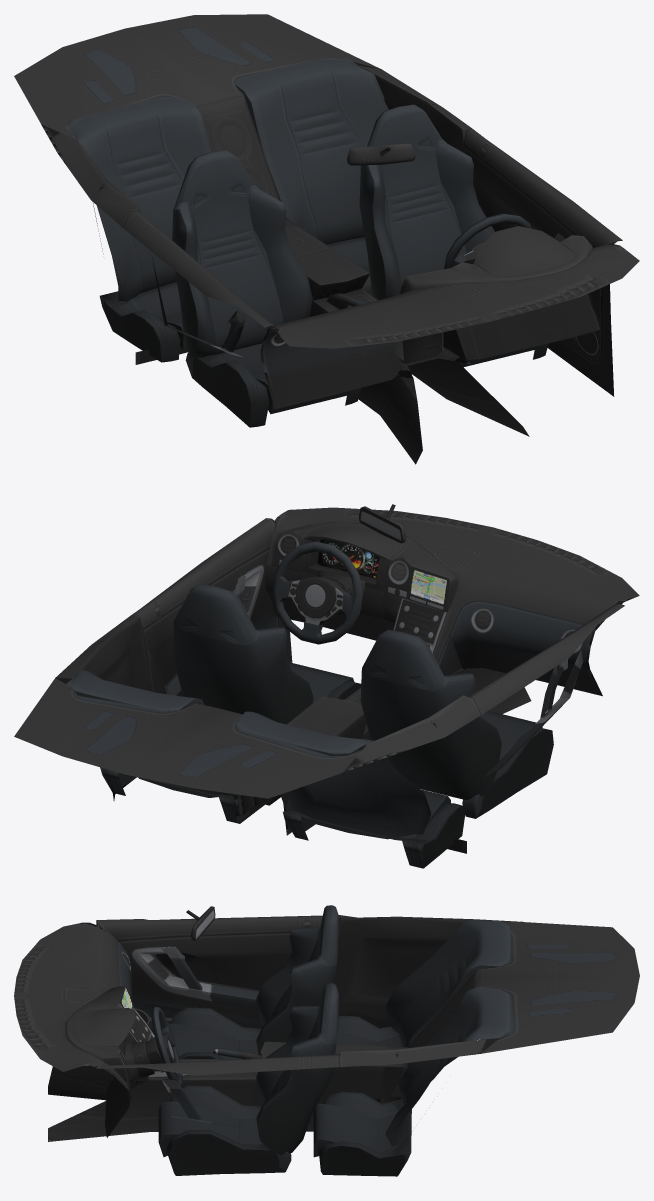
The model's file is Car_12_Interior.FBX.
3 views of the same model, one above another, from view 1: azimuth 30°, elevation 25°; view 2: azimuth 150°, elevation 25°; view 3: azimuth 270°, elevation 25° (orthographic). The views are drawn at different scales.
Parts seen in each view (by area): view 1: Car_12_Interior_D; view 2: Car_12_Interior_D; view 3: Car_12_Interior_D.
Part boxes in pixels (x1=…): Car_12_Interior_D: x1=14, y1=14, x2=639, y2=464; Car_12_Interior_D: x1=14, y1=504, x2=639, y2=868; Car_12_Interior_D: x1=14, y1=905, x2=639, y2=1176.
Bounding box in the file's own units: 1.47 × 2.56 × 0.9339.
